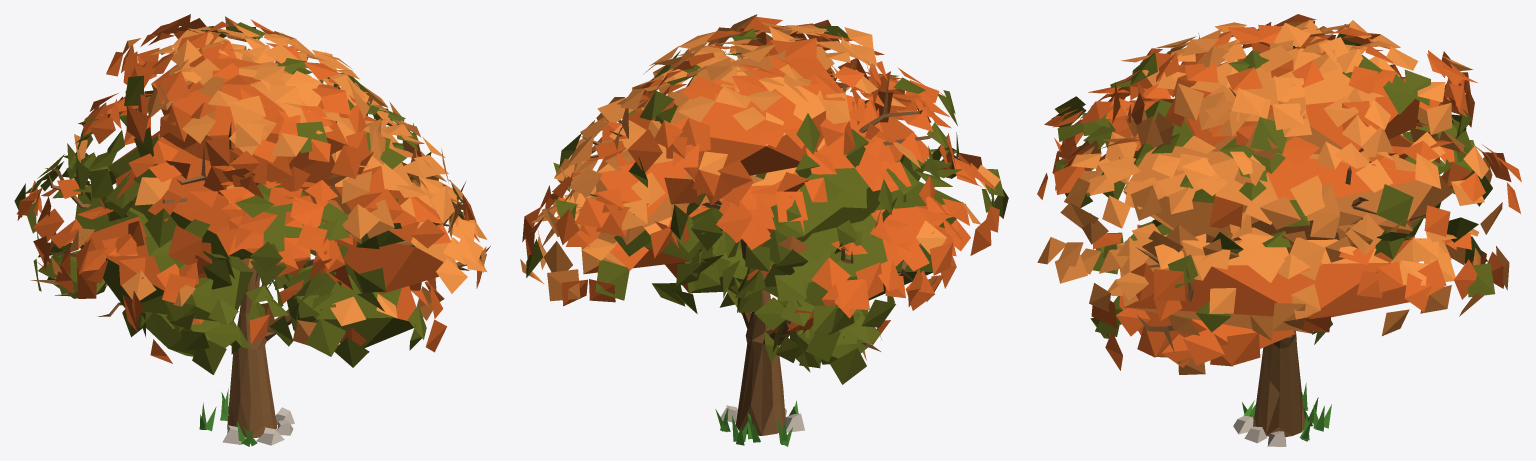
The model's file is elm_3_autumn.glb.
The picture shows the model from 3 angles, left to right: view 1: azimuth 30°, elevation 25°; view 2: azimuth 150°, elevation 25°; view 3: azimuth 270°, elevation 25°; orthographic projection. The views are drawn at different scales.
Parts seen in each view (by area): view 1: elm_3_autumn; view 2: elm_3_autumn; view 3: elm_3_autumn.
Boxes of the visible parts, bbox=[...] form: elm_3_autumn: bbox=[14, 14, 490, 446]; elm_3_autumn: bbox=[520, 14, 1008, 446]; elm_3_autumn: bbox=[1037, 14, 1521, 446].
Bounding box in the file's own units: 6.76 × 6.59 × 7.26.
